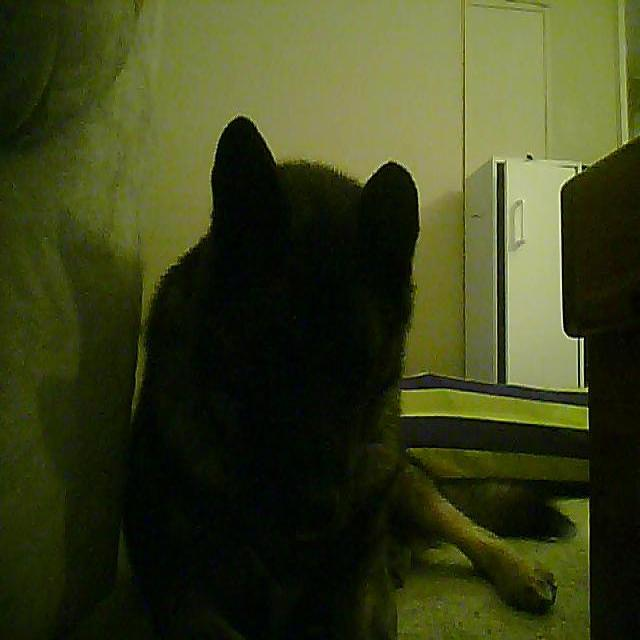dog: (128, 111, 561, 634)
